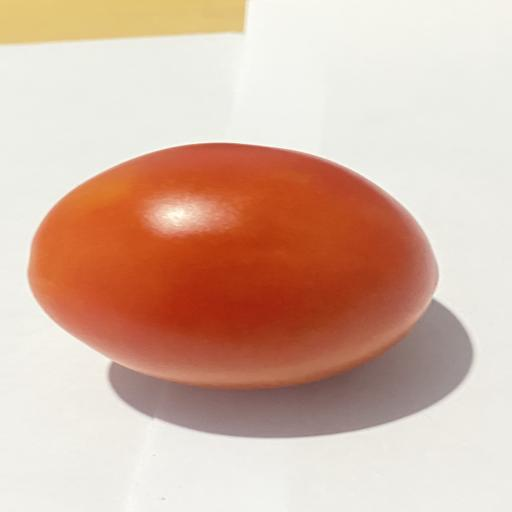ripe: (28, 143, 438, 389)
